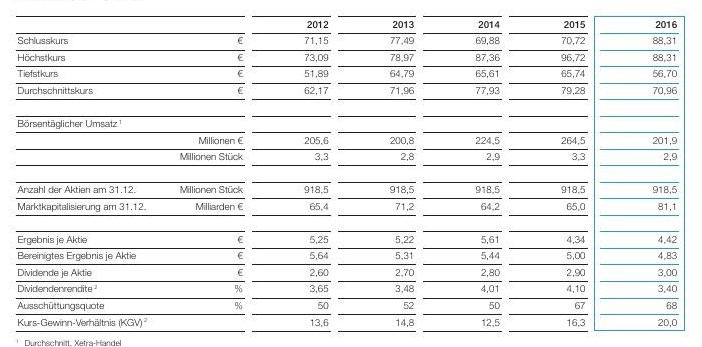table: (0, 0, 702, 347)
